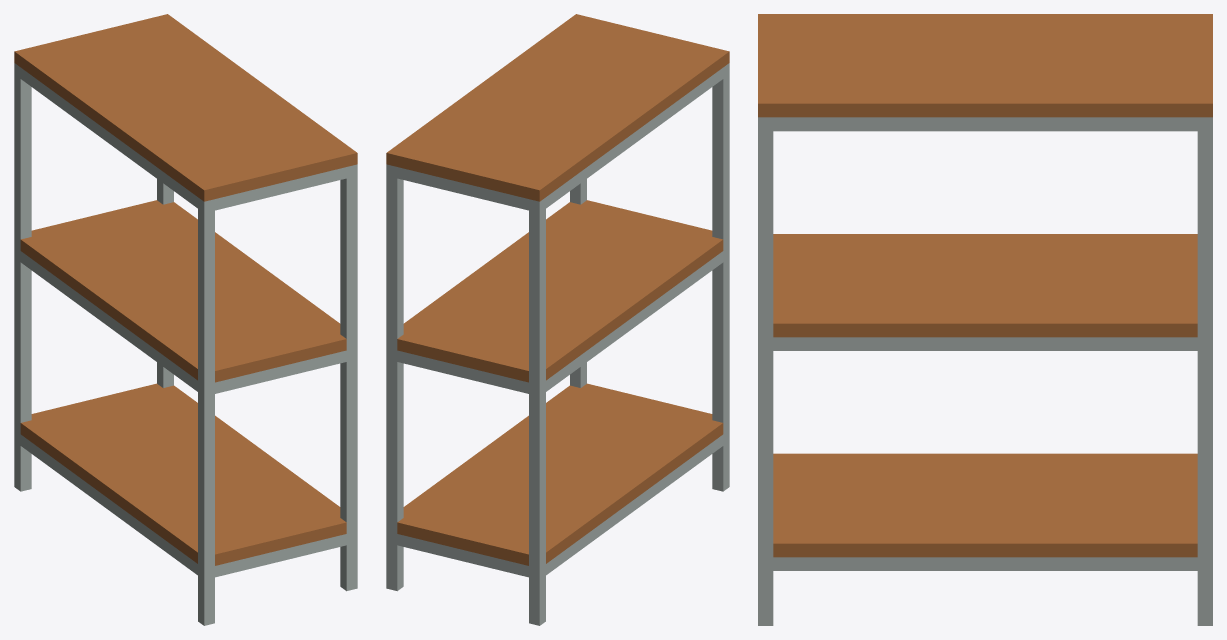
The model's file is shelves_03.dae.
The picture shows the model from 3 angles, left to right: view 1: azimuth 30°, elevation 25°; view 2: azimuth 150°, elevation 25°; view 3: azimuth 270°, elevation 25°; orthographic projection. The views are drawn at different scales.
Visible parts, largest first — view 1: Untitled; view 2: Untitled; view 3: Untitled.
Part boxes in pixels (box(x1,y1,x2,y2)): Untitled: box(14, 14, 357, 625); Untitled: box(386, 14, 729, 625); Untitled: box(758, 14, 1212, 625).
Bounding box in the file's own units: 0.42 × 0.9 × 1.14.
1 material, 1 textured.
